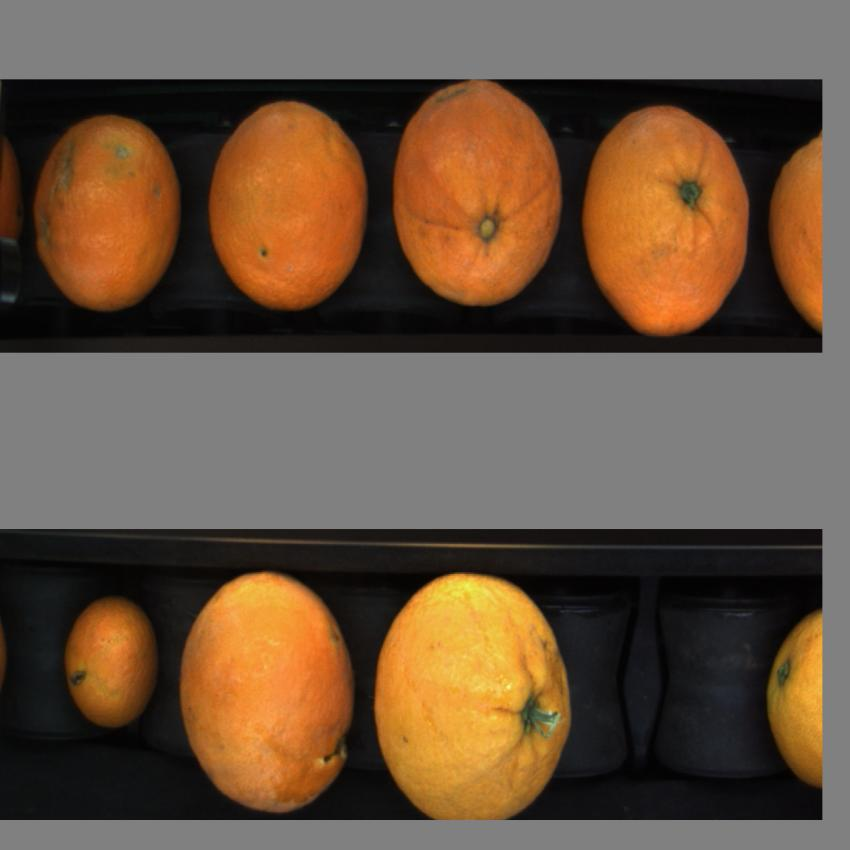Buen estado: (368, 573, 581, 814), (389, 73, 566, 314), (580, 103, 756, 339), (204, 97, 369, 311), (64, 594, 165, 737), (768, 123, 821, 344), (764, 607, 822, 789)
Mal estado: (175, 572, 356, 817), (31, 100, 181, 314)
